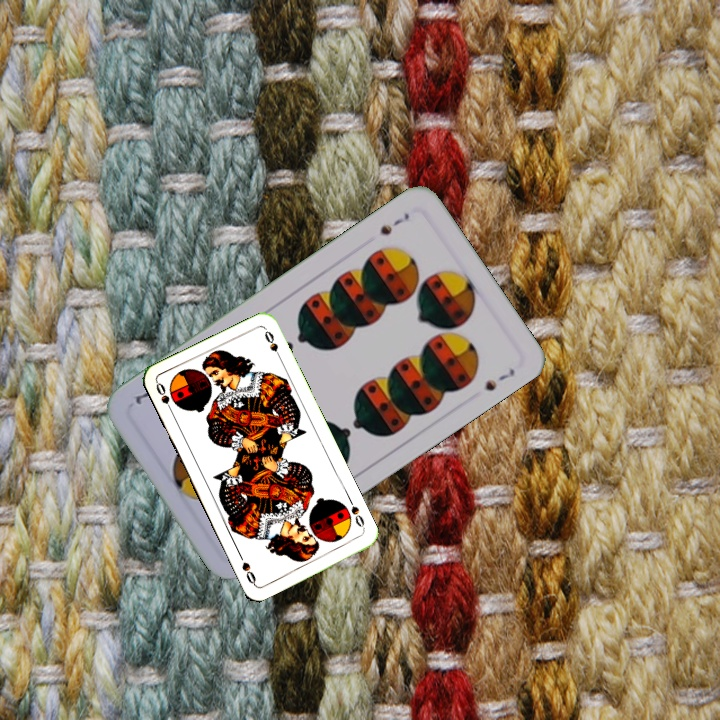S7: (375, 209, 412, 238)
SO: (152, 379, 176, 417), (347, 502, 368, 533)
